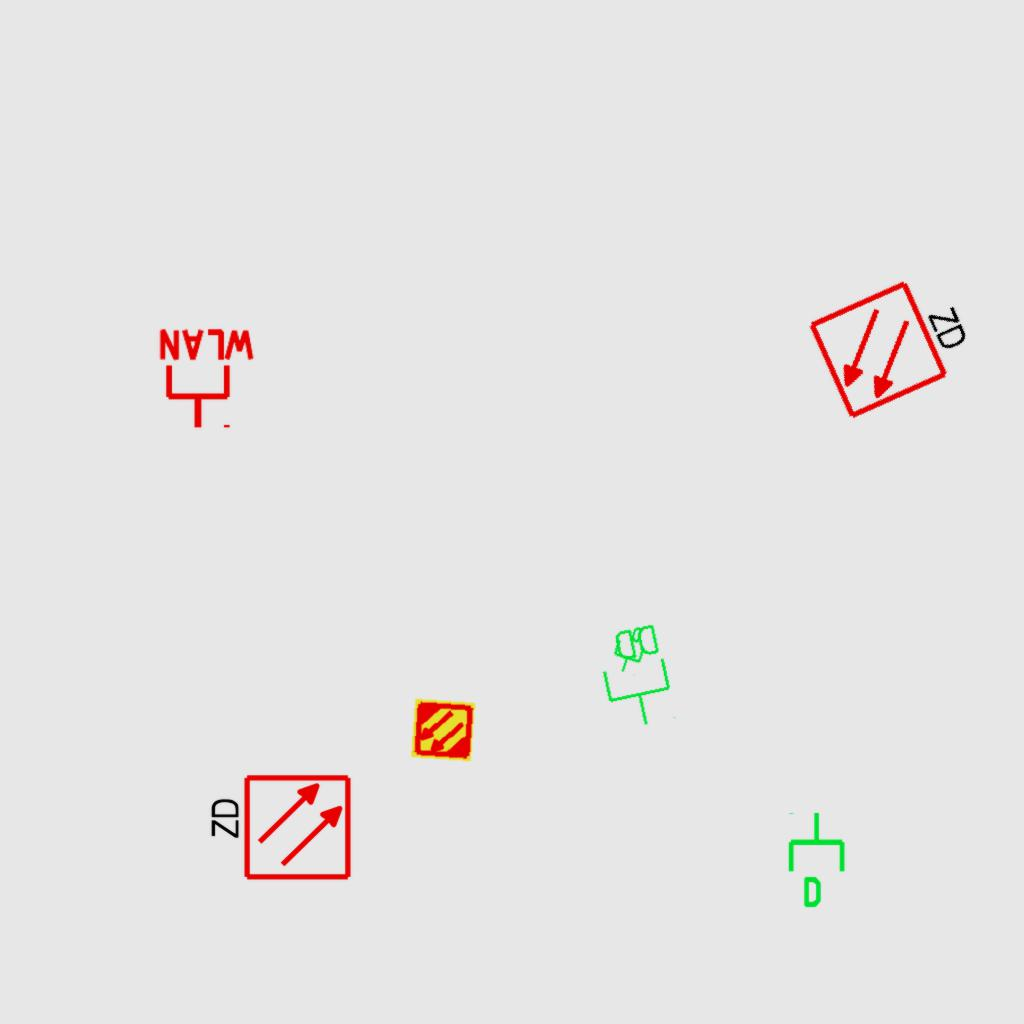ASR_Ansaugrauchmelder: (409, 696, 477, 764)
Datenanschluss_einfach: (784, 810, 853, 910), (605, 619, 653, 679)
Datenanschluss_zweifach: (592, 618, 681, 735)
WLAN: (155, 327, 259, 432)
ZD_Melder_in_Zwischendecke_mit_Revisionsoeffnung_mind_40_x_40_cm: (803, 258, 987, 423), (204, 772, 353, 886)
